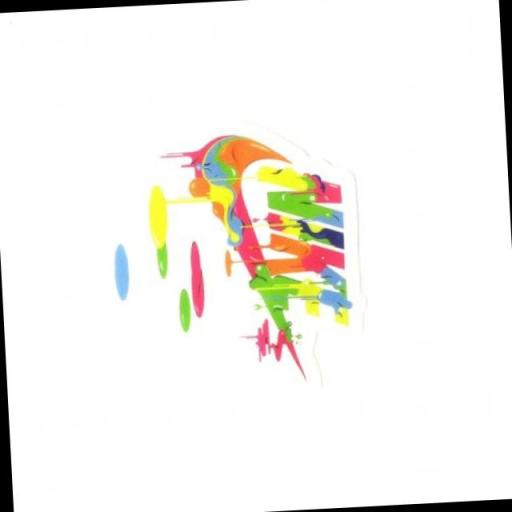Nike: (196, 130, 298, 360), (258, 165, 354, 334)
